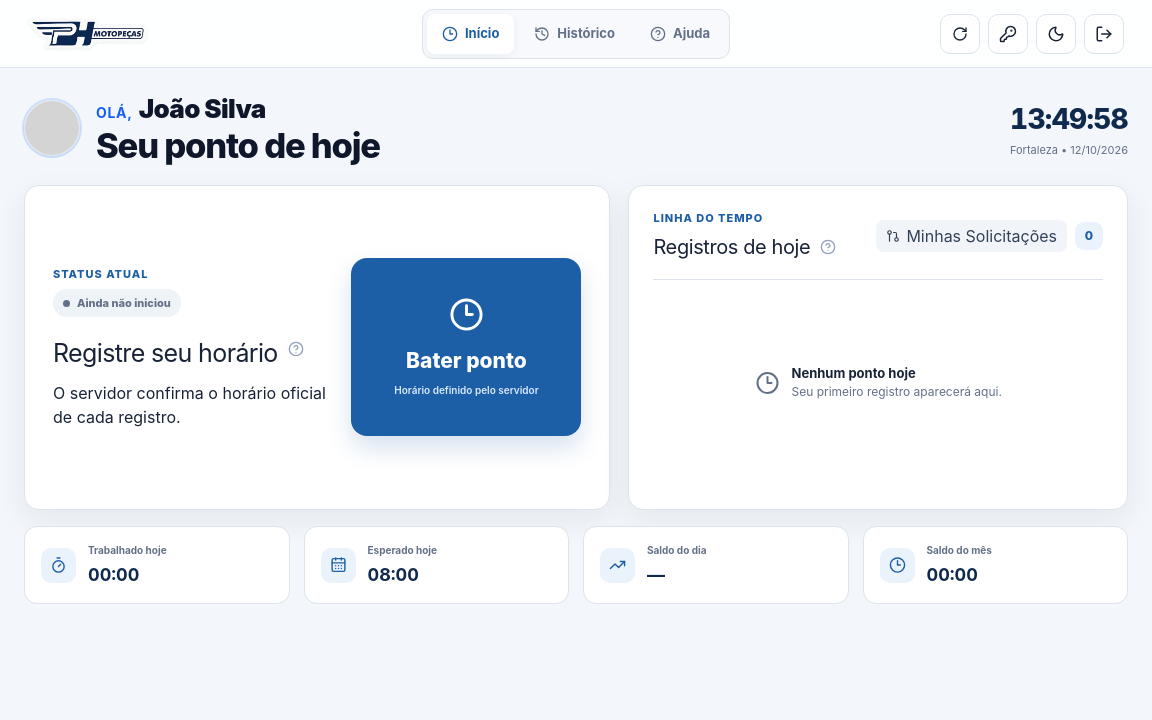
it: PH-Ponto employee application › shows owned history and validates a future custom period
Step 1. Click the link "Histórico" → coordinates (575, 34), box top-left (534, 22), bottom-right (615, 46)
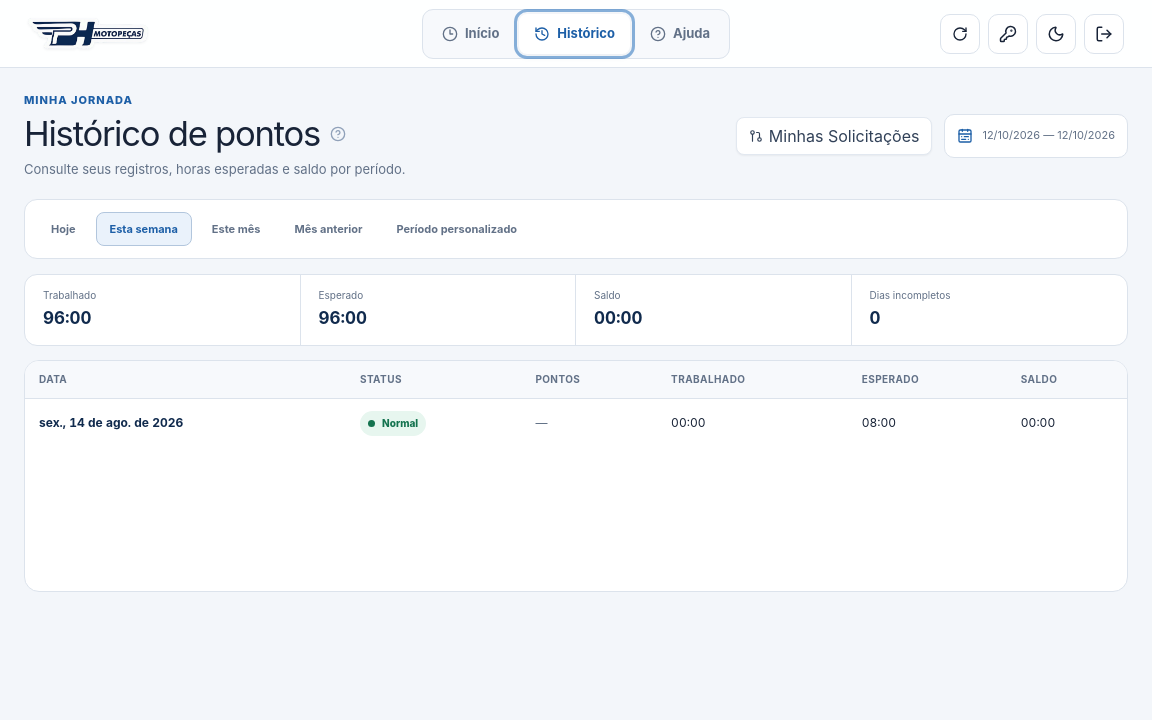
Now the heading "Histórico de pontos" is shown, box top-left (24, 114), bottom-right (320, 152)
Now the cell "sex., 14 de ago. de 2026" is shown, box top-left (25, 398), bottom-right (346, 448)
Step 2. Click the button "Período personalizado" → coordinates (457, 229), box top-left (382, 212), bottom-right (531, 246)
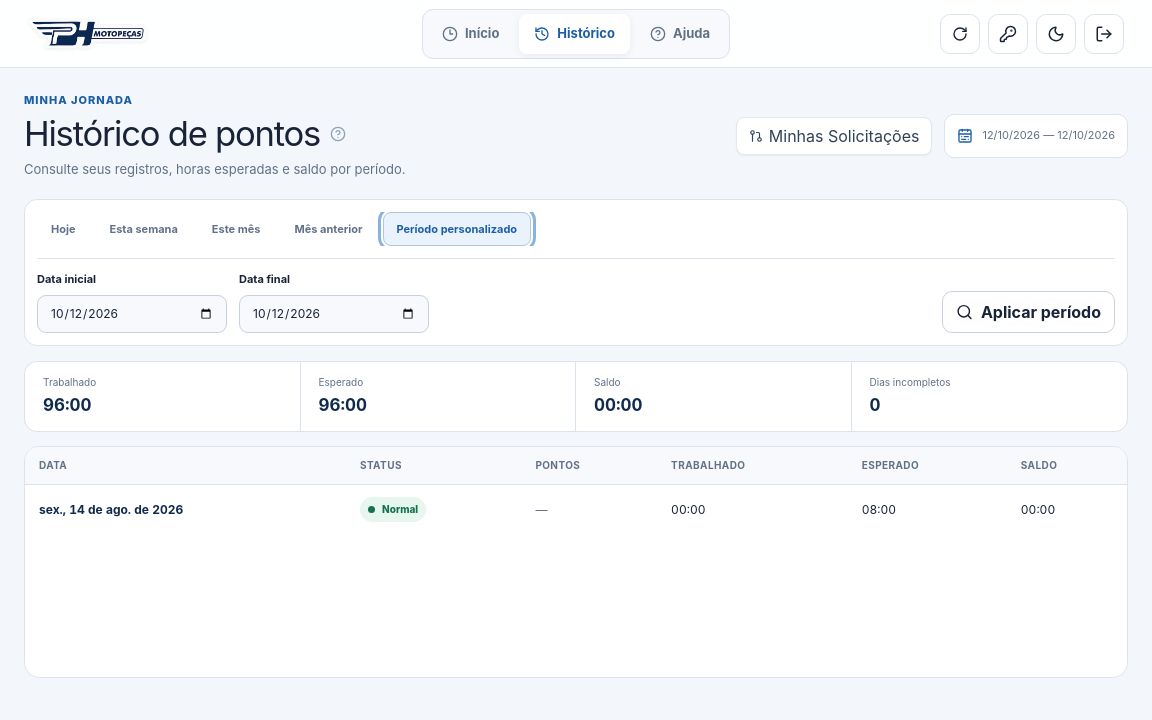
Now the form "Aplicar período" is shown, box top-left (37, 258), bottom-right (1115, 332)
Step 3. Type "2026-08-14" into the date field labelled "Data inicial" → coordinates (132, 314), box top-left (37, 294), bottom-right (227, 332)
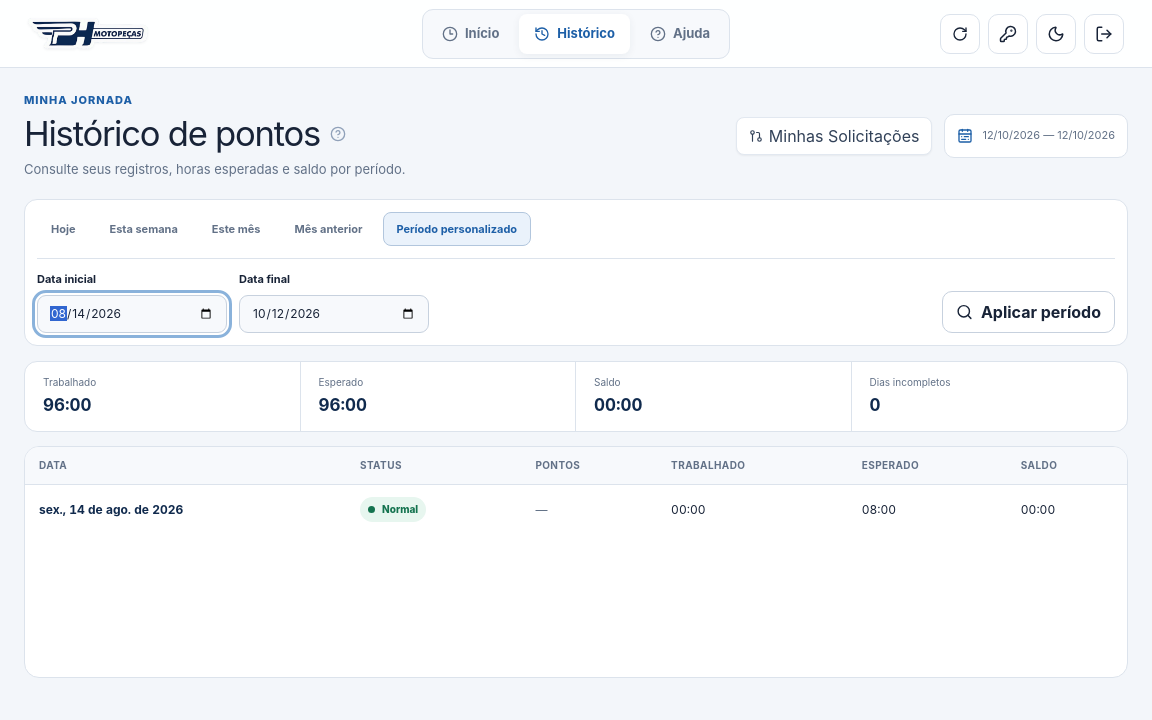
Step 4. Type "2026-08-13" into the date field labelled "Data final" → coordinates (334, 314), box top-left (239, 294), bottom-right (429, 332)
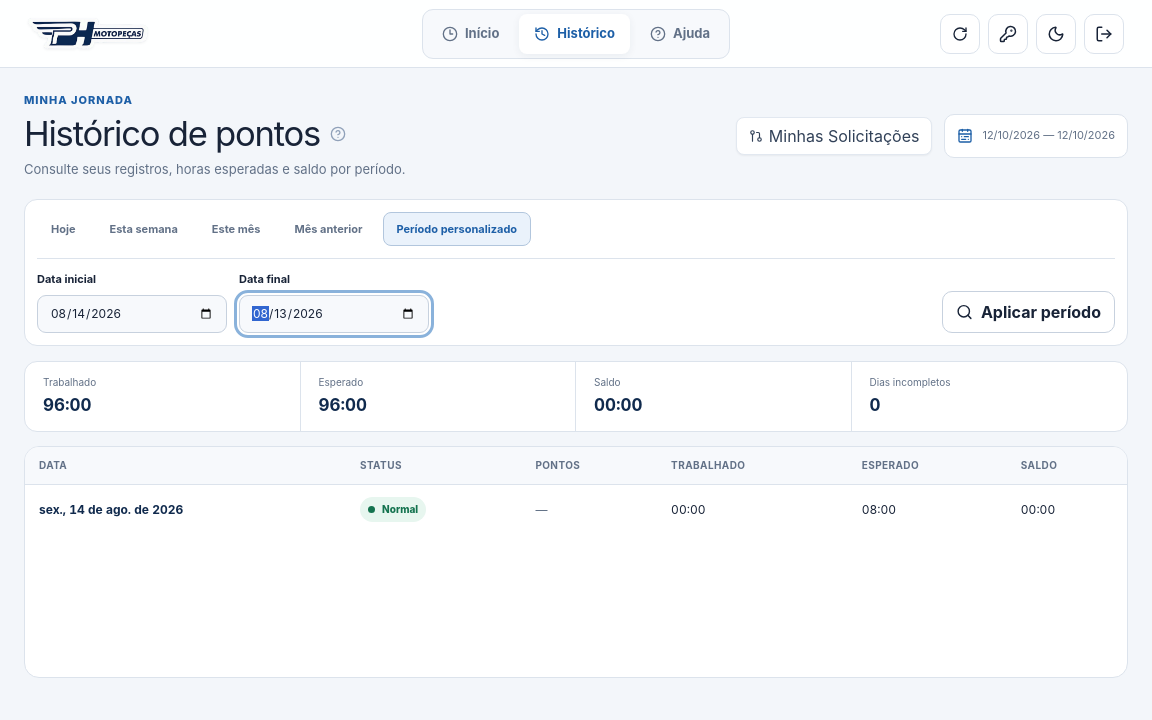
Step 5. Click the button "Aplicar período" → coordinates (1028, 312), box top-left (942, 290), bottom-right (1115, 332)
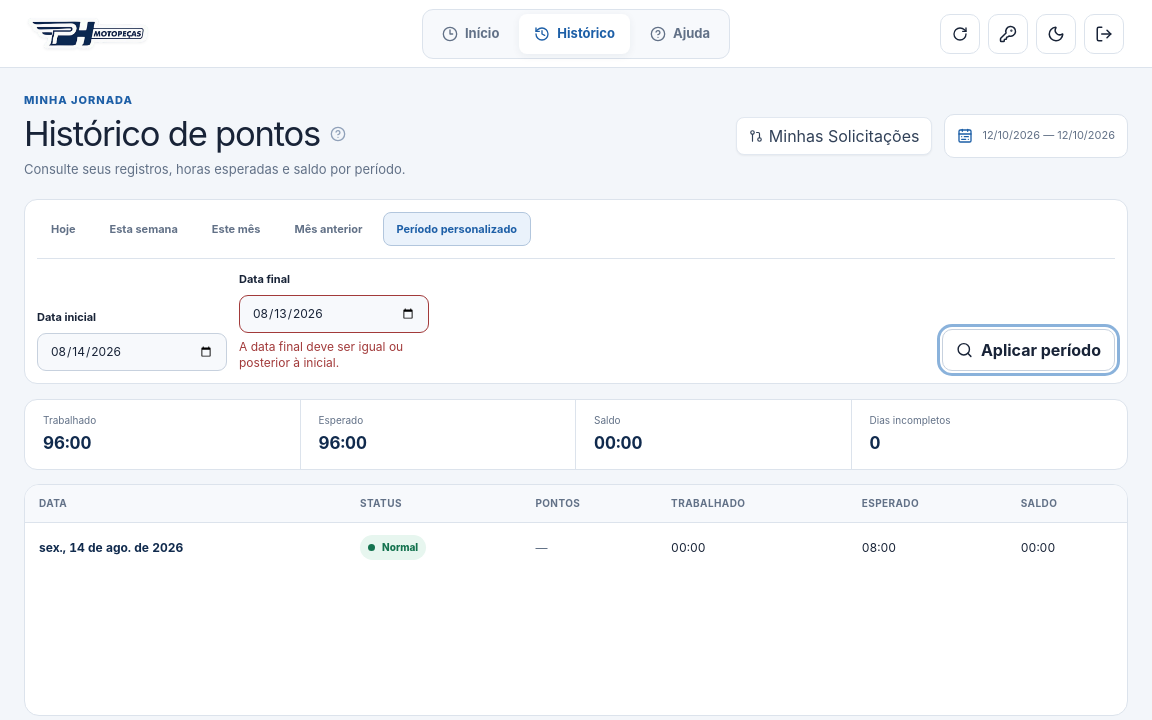
Now the text "A data final deve ser igual ou posterior à inicial." is shown, box top-left (239, 338), bottom-right (429, 371)
